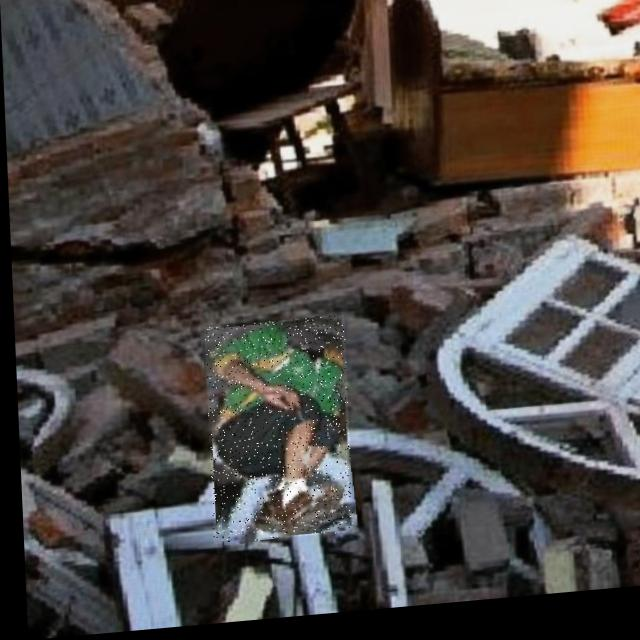Person in Rubble: (201, 321, 349, 548)
